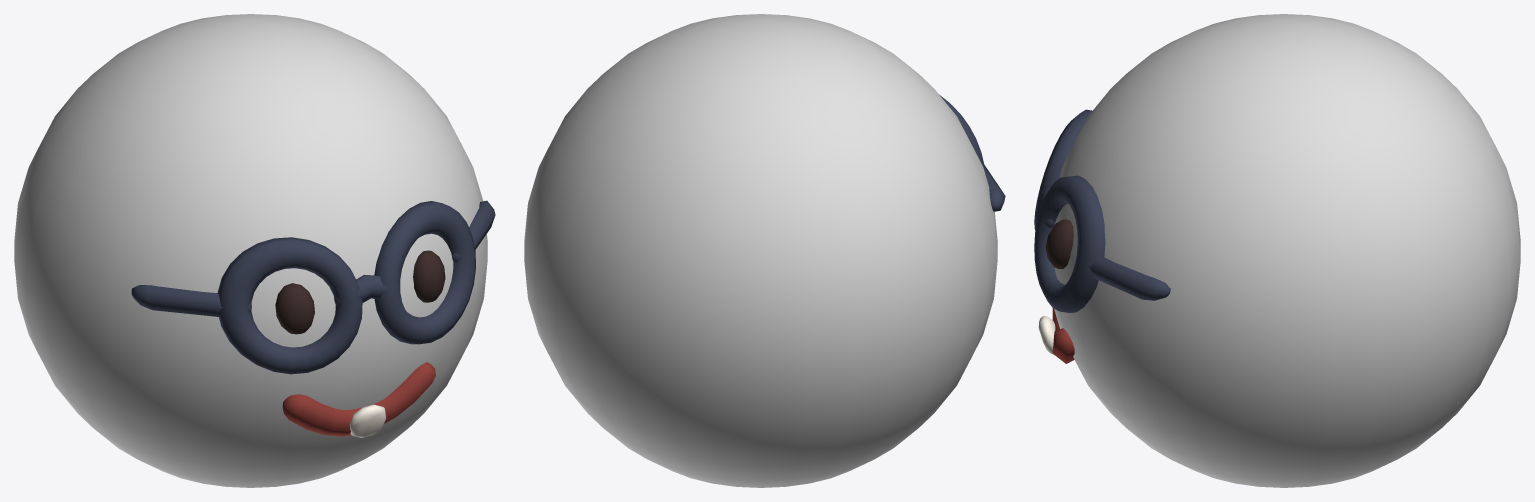
The model's file is face_nerd.glb.
3 views of the same model, side by side, from view 1: azimuth 30°, elevation 25°; view 2: azimuth 150°, elevation 25°; view 3: azimuth 270°, elevation 25° (orthographic).
Parts seen in each view (by area): view 1: face_nerd; view 2: face_nerd; view 3: face_nerd.
Boxes of the visible parts, box(x1,y1,x2,y2) form: face_nerd: box(14, 14, 495, 487); face_nerd: box(524, 14, 1005, 487); face_nerd: box(1034, 14, 1520, 487).
Size of the model in its own units: 1 by 1 by 1.02.
